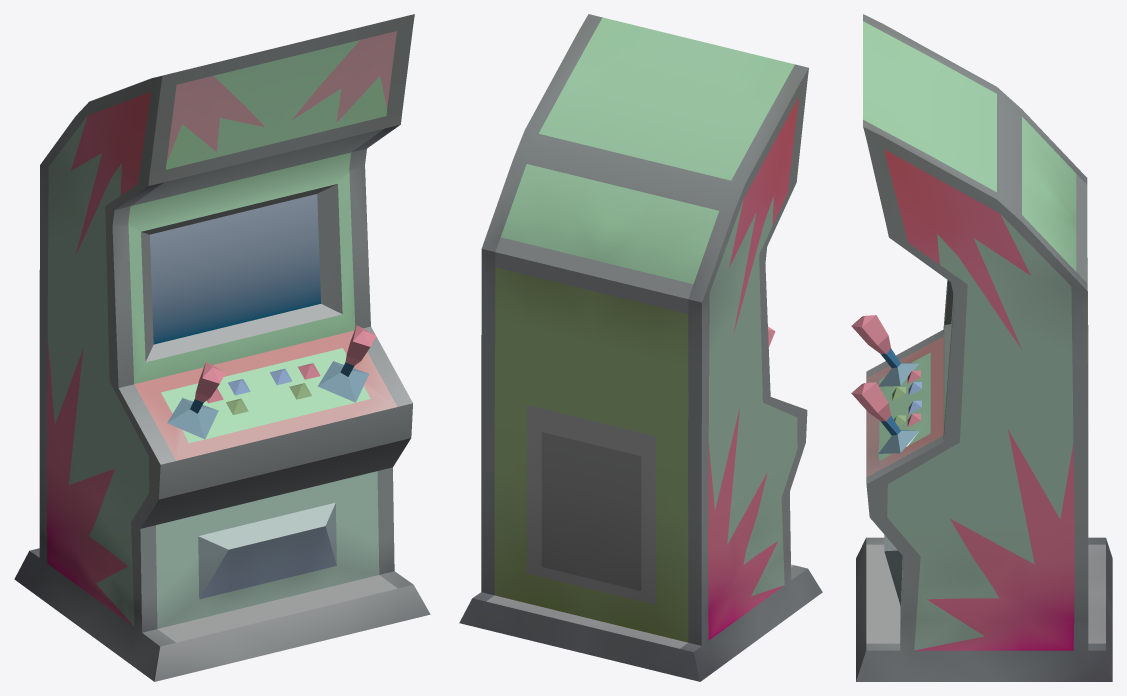
Rendered from arcade.glb.
3 renders of one model, left to right at view 1: azimuth 30°, elevation 25°; view 2: azimuth 150°, elevation 25°; view 3: azimuth 270°, elevation 25°, orthographic. The views are drawn at different scales.
Visible parts, largest first — view 1: arcade; view 2: arcade; view 3: arcade.
Boxes of the visible parts, x1,y1,x2,y2 form: arcade: [14, 14, 430, 681]; arcade: [459, 14, 822, 681]; arcade: [851, 14, 1112, 681].
Size of the model in its own units: 1.08 by 2.23 by 0.9628.
